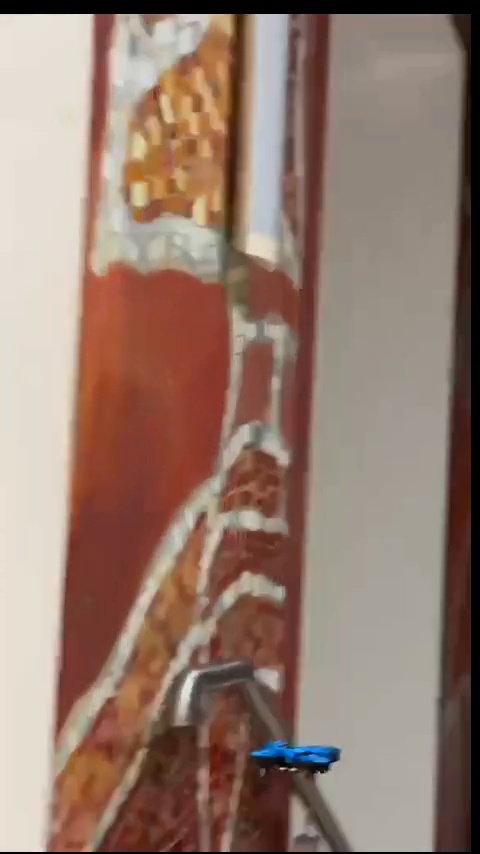drone: (248, 737, 343, 776)
